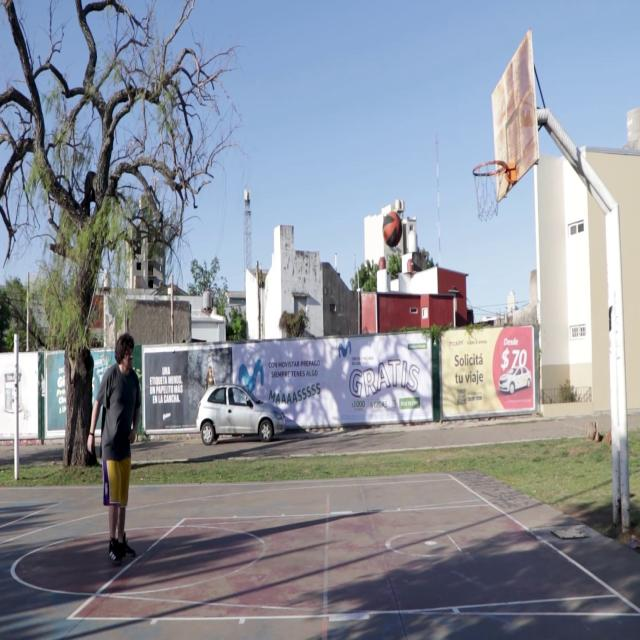ball: (382, 211, 402, 249)
